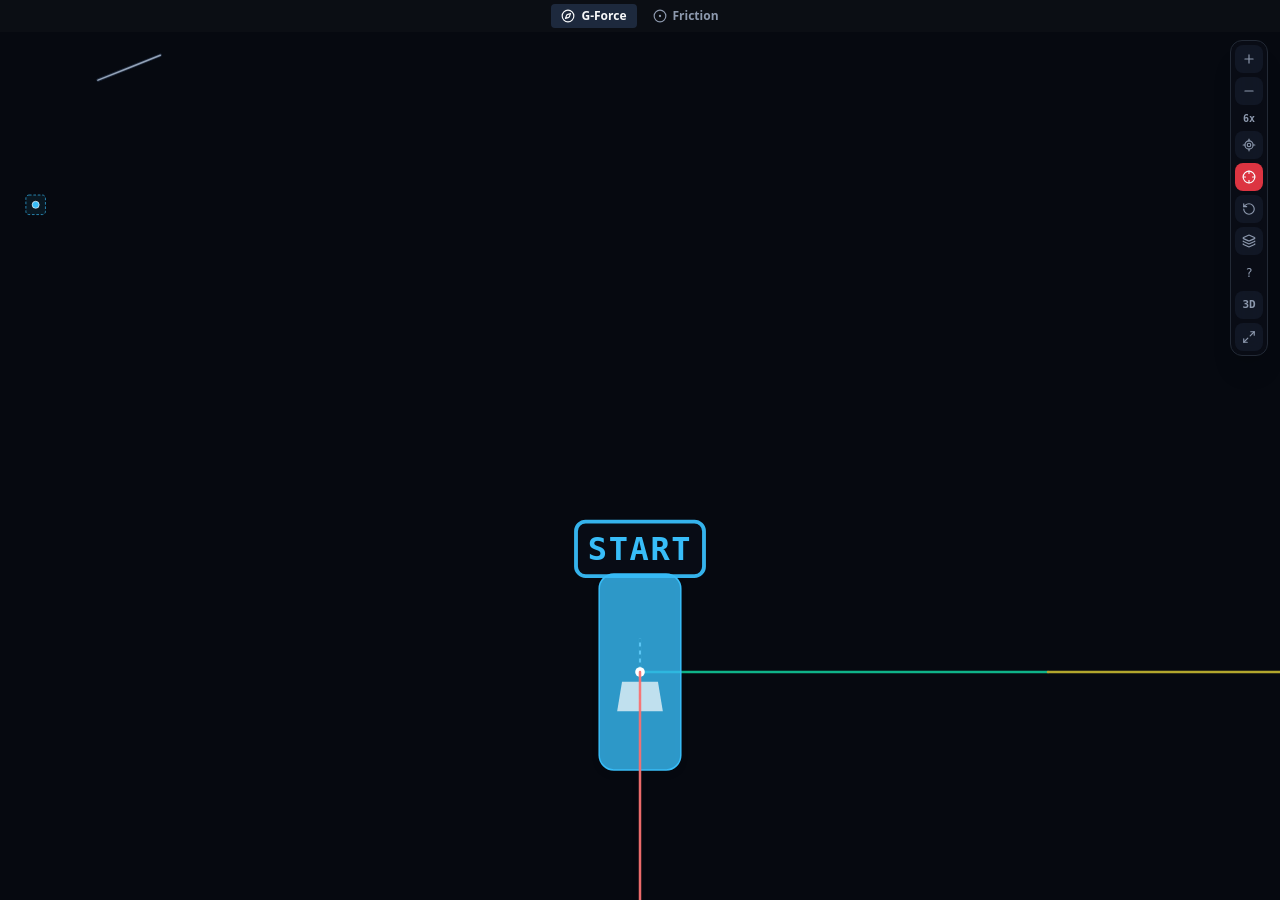
Test: ReplayMapContainer › toggles the friction circle from the map toolbar
Step 1. Click the button with aria-label "Show friction circle" → [686, 16], box [642,4,728,28]
(page scrolled)
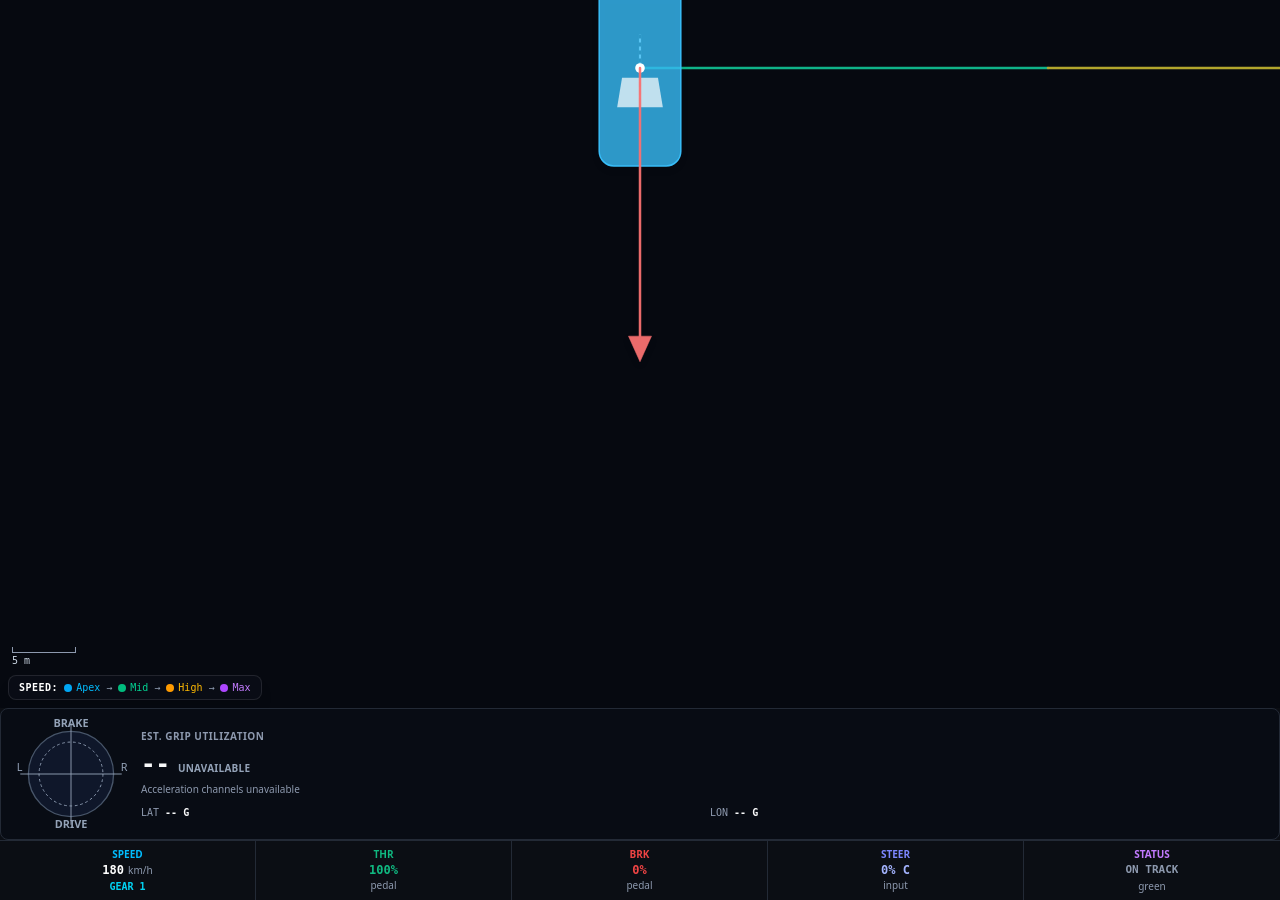
Result: the element named "Estimated friction circle" is shown at [0,708,1279,840]
